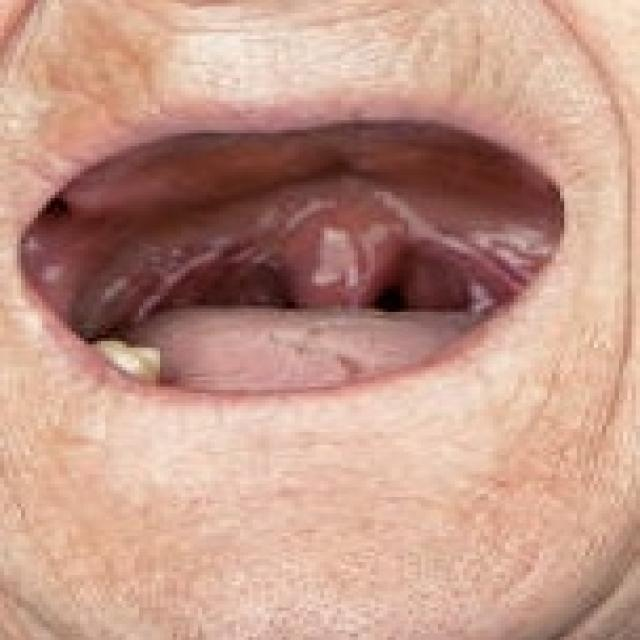open-mouth: (12, 110, 568, 414)
